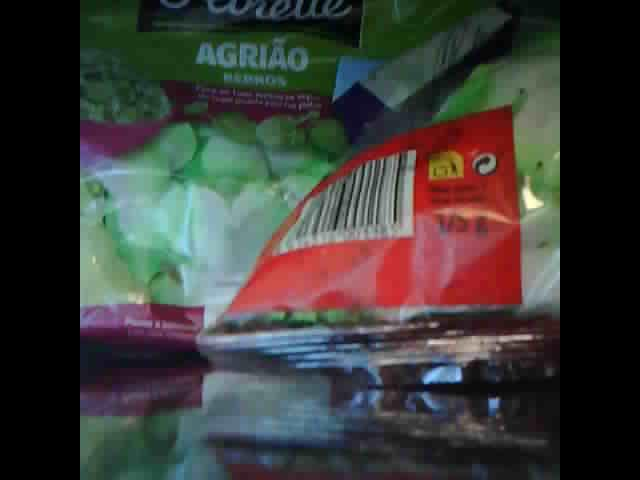florette: (80, 1, 518, 365), (196, 8, 559, 391)
